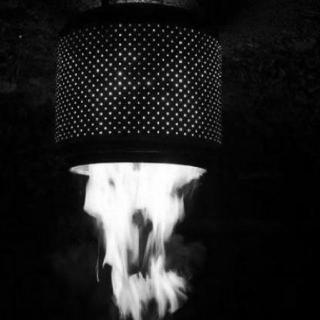Fire: (72, 165, 206, 318)
